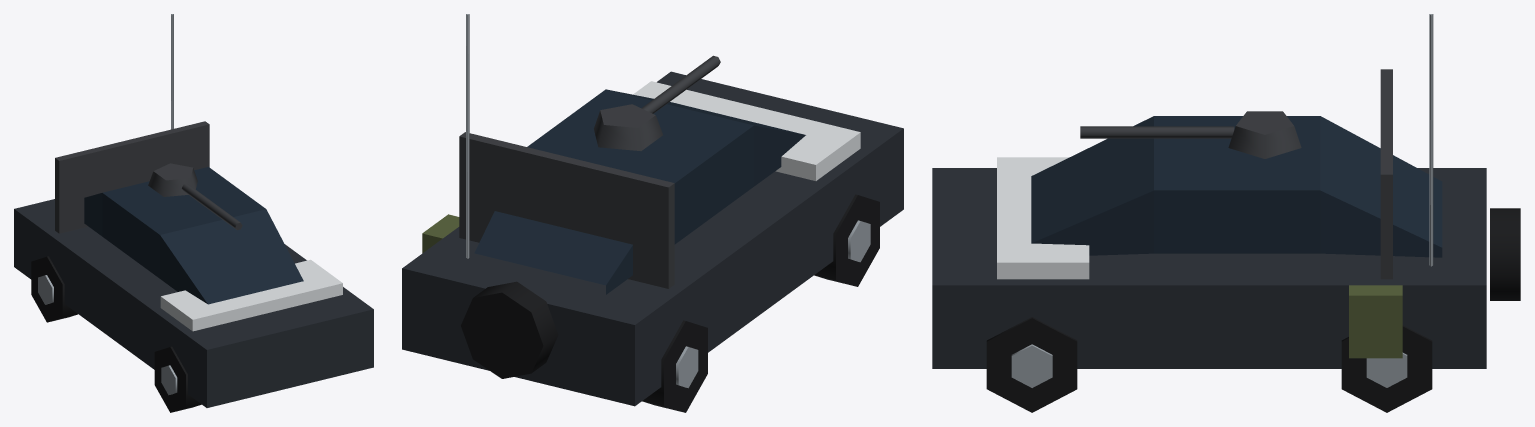
The model's file is veh_ground_jeep_a09_lod1.glb.
The picture shows the model from 3 angles, left to right: view 1: azimuth 30°, elevation 25°; view 2: azimuth 150°, elevation 25°; view 3: azimuth 270°, elevation 25°; orthographic projection. The views are drawn at different scales.
Parts seen in each view (by area): view 1: body, wheel_2, wheel_0, gun; view 2: body, gun, wheel_0, wheel_2; view 3: body, wheel_3, wheel_1, gun.
Boxes of the visible parts, x1=… form: body: x1=14, y1=14, x2=373, y2=407; wheel_2: x1=154, y1=346, x2=201, y2=412; wheel_0: x1=31, y1=256, x2=77, y2=322; gun: x1=148, y1=163, x2=242, y2=230; body: x1=402, y1=14, x2=903, y2=406; gun: x1=594, y1=55, x2=720, y2=150; wheel_0: x1=642, y1=320, x2=707, y2=412; wheel_2: x1=814, y1=194, x2=879, y2=286; body: x1=932, y1=14, x2=1520, y2=368; wheel_3: x1=986, y1=317, x2=1077, y2=412; wheel_1: x1=1341, y1=325, x2=1432, y2=412; gun: x1=1080, y1=111, x2=1301, y2=158.
Bounding box in the file's own units: 2 × 2.71 × 3.82.
